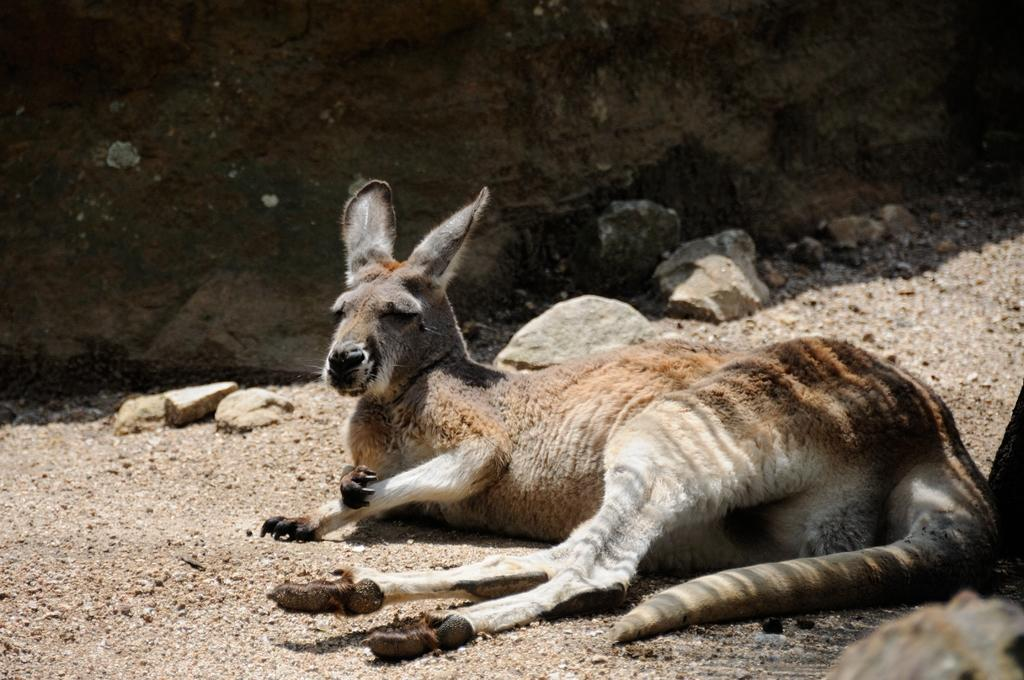kangaroo: (258, 178, 996, 680)
